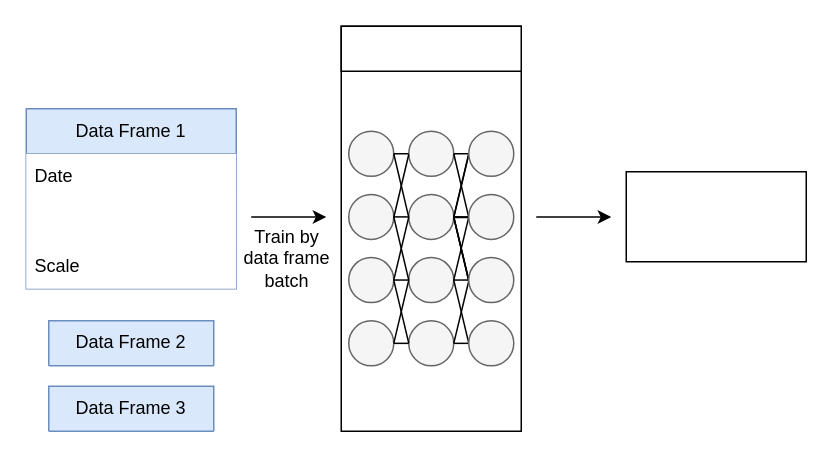
Image size: 833x458. Some labels were removed from this diagram. Each missing label, with the centre of its shape:
"Consumption" belongs at [715,216].
"Country" belongs at [131,220].
"LSTM Model" belongs at [430,48].
